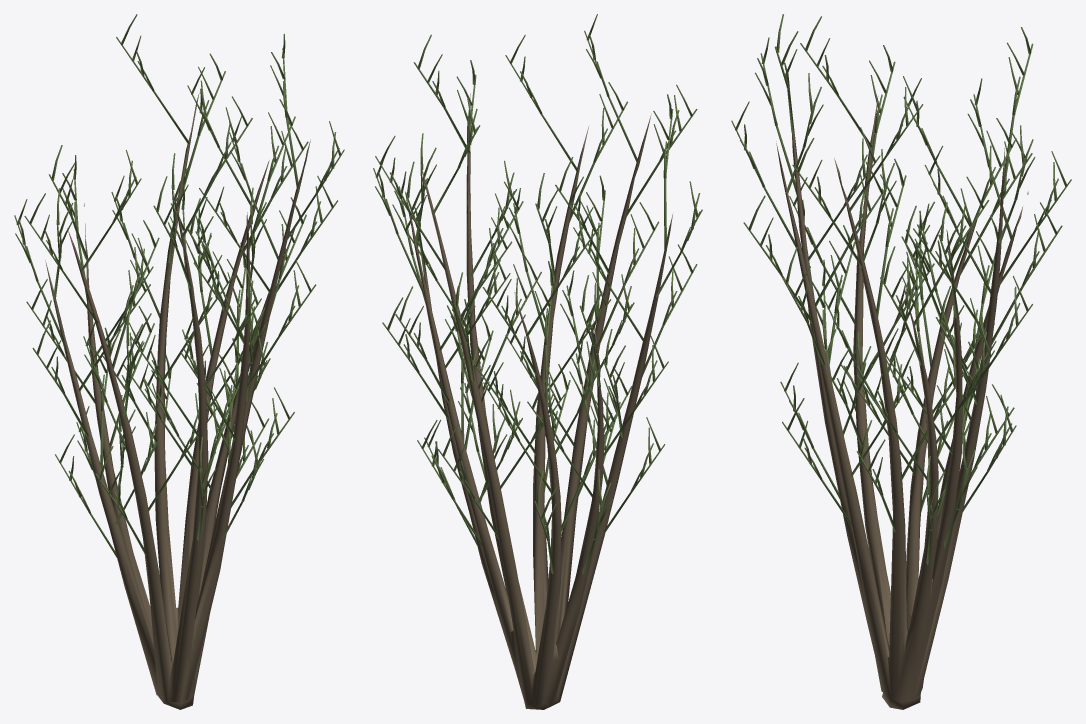
The model's file is Bruyere_1_Niveau1.fbx.
3 renders of one model, left to right at view 1: azimuth 30°, elevation 25°; view 2: azimuth 150°, elevation 25°; view 3: azimuth 270°, elevation 25°, orthographic. The views are drawn at different scales.
Parts seen in each view (by area): view 1: Bruyere_1_Niveau1_Jeu; view 2: Bruyere_1_Niveau1_Jeu; view 3: Bruyere_1_Niveau1_Jeu.
Part boxes in pixels (bbox=[...]): Bruyere_1_Niveau1_Jeu: bbox=[14, 14, 344, 709]; Bruyere_1_Niveau1_Jeu: bbox=[373, 14, 702, 709]; Bruyere_1_Niveau1_Jeu: bbox=[731, 14, 1071, 709].
Size of the model in its own units: 138 by 279 by 125.
